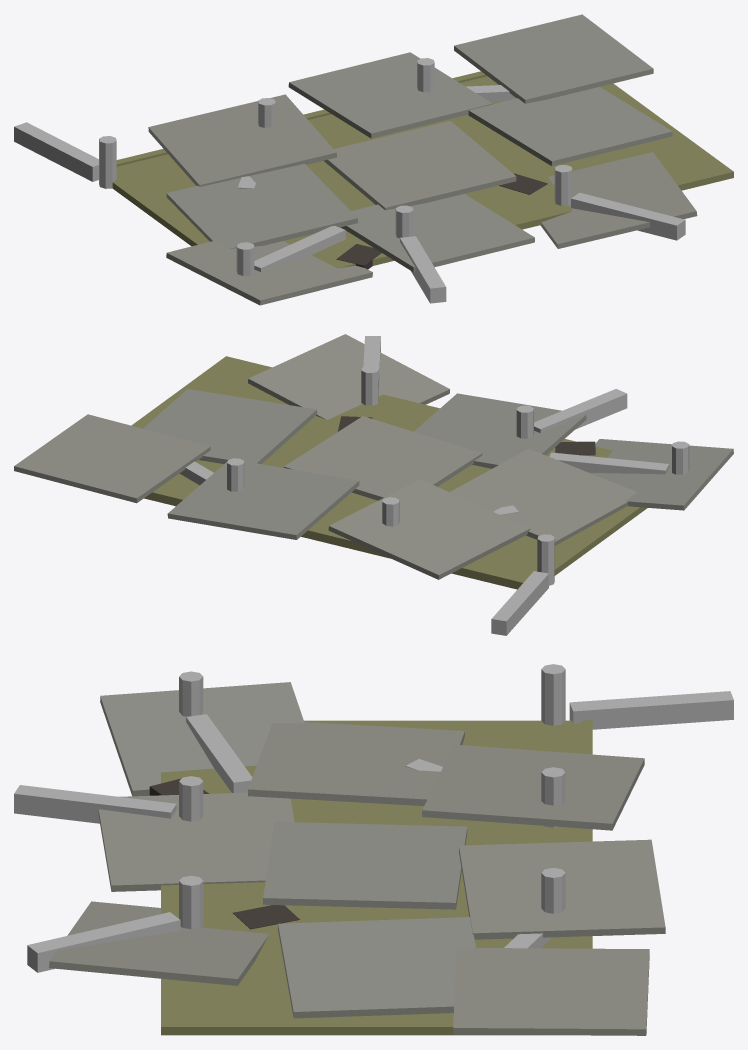
Rendered from SM_MarquesinaBus_v3_Lonas_e3_Brecha_LOD0.fbx.
The picture shows the model from 3 angles, top to bottom: view 1: azimuth 30°, elevation 25°; view 2: azimuth 150°, elevation 25°; view 3: azimuth 270°, elevation 25°; orthographic projection. The views are drawn at different scales.
Parts seen in each view (by area): view 1: SM_marquesina_bus_v15_LOD0; view 2: SM_marquesina_bus_v15_LOD0; view 3: SM_marquesina_bus_v15_LOD0.
Boxes of the visible parts, x1,y1,x2,y2 form: SM_marquesina_bus_v15_LOD0: [14, 14, 733, 305]; SM_marquesina_bus_v15_LOD0: [14, 334, 733, 635]; SM_marquesina_bus_v15_LOD0: [14, 664, 733, 1035].
Bounding box in the file's own units: 13.87 × 1.16 × 11.92.
